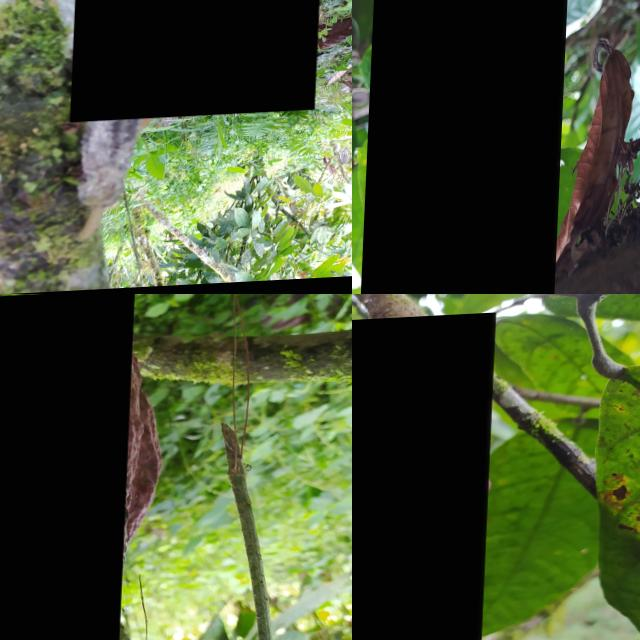Fitoftora: (364, 0, 576, 294), (0, 294, 135, 640), (352, 317, 496, 640), (74, 0, 331, 123)
Sana: (10, 294, 171, 564)
